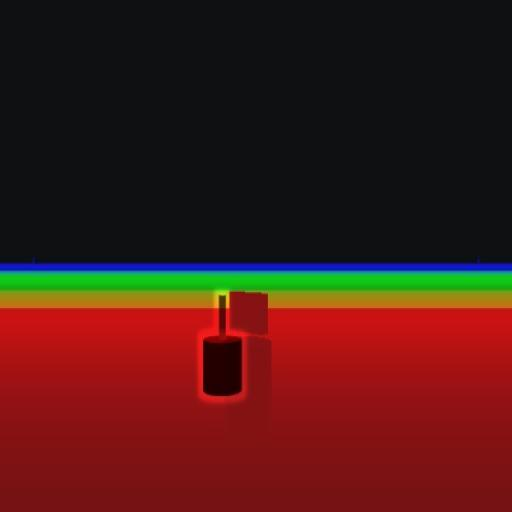floating_obstacle: (204, 294, 242, 396)
